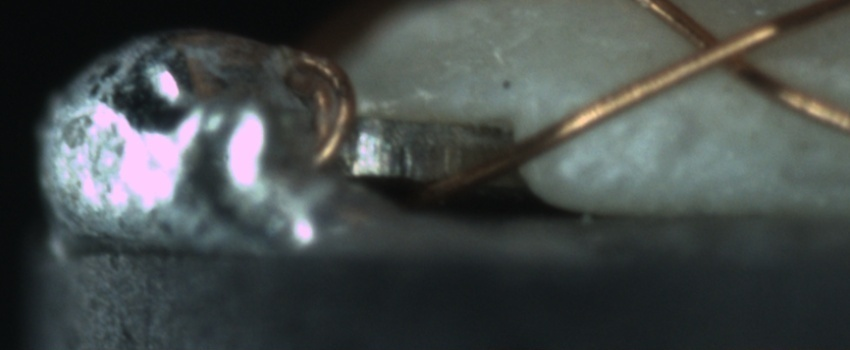CL: (664, 13, 769, 84)
TE: (288, 45, 364, 178)
